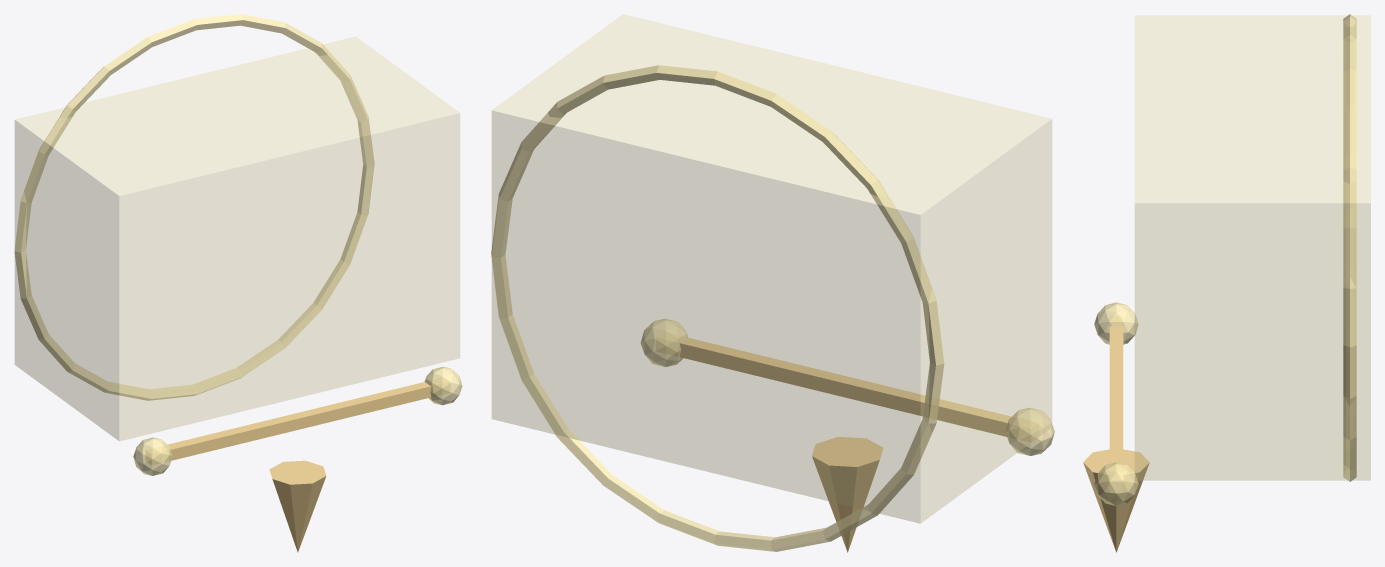
The model's file is 06_dynamic_combat_camera_trigger.glb.
3 views of the same model, side by side, from view 1: azimuth 30°, elevation 25°; view 2: azimuth 150°, elevation 25°; view 3: azimuth 270°, elevation 25° (orthographic). The views are drawn at different scales.
Visible parts, largest first — view 1: combat_camera_volume, combat_start_ring, camera_rail, look_direction, camera_anchor_a, camera_anchor_b; view 2: combat_camera_volume, combat_start_ring, camera_rail, look_direction, camera_anchor_a, camera_anchor_b; view 3: combat_camera_volume, combat_start_ring, look_direction, camera_rail, camera_anchor_b, camera_anchor_a.
Part boxes in pixels (x1,y1,x2,y2): combat_camera_volume: [15, 36, 459, 441]; combat_start_ring: [14, 14, 374, 400]; camera_rail: [146, 378, 449, 464]; look_direction: [269, 460, 326, 552]; camera_anchor_a: [133, 437, 172, 475]; camera_anchor_b: [424, 366, 462, 405]; combat_camera_volume: [492, 14, 1051, 523]; combat_start_ring: [491, 65, 944, 551]; camera_rail: [679, 337, 1011, 436]; look_direction: [812, 436, 883, 552]; camera_anchor_a: [1005, 407, 1054, 455]; camera_anchor_b: [641, 318, 687, 366]; combat_camera_volume: [1135, 15, 1370, 480]; combat_start_ring: [1343, 14, 1356, 481]; look_direction: [1083, 449, 1149, 552]; camera_rail: [1109, 316, 1123, 492]; camera_anchor_b: [1094, 462, 1138, 506]; camera_anchor_a: [1094, 302, 1138, 344].
Bounding box in the file's own units: 1.69 × 2.06 × 1.03.
